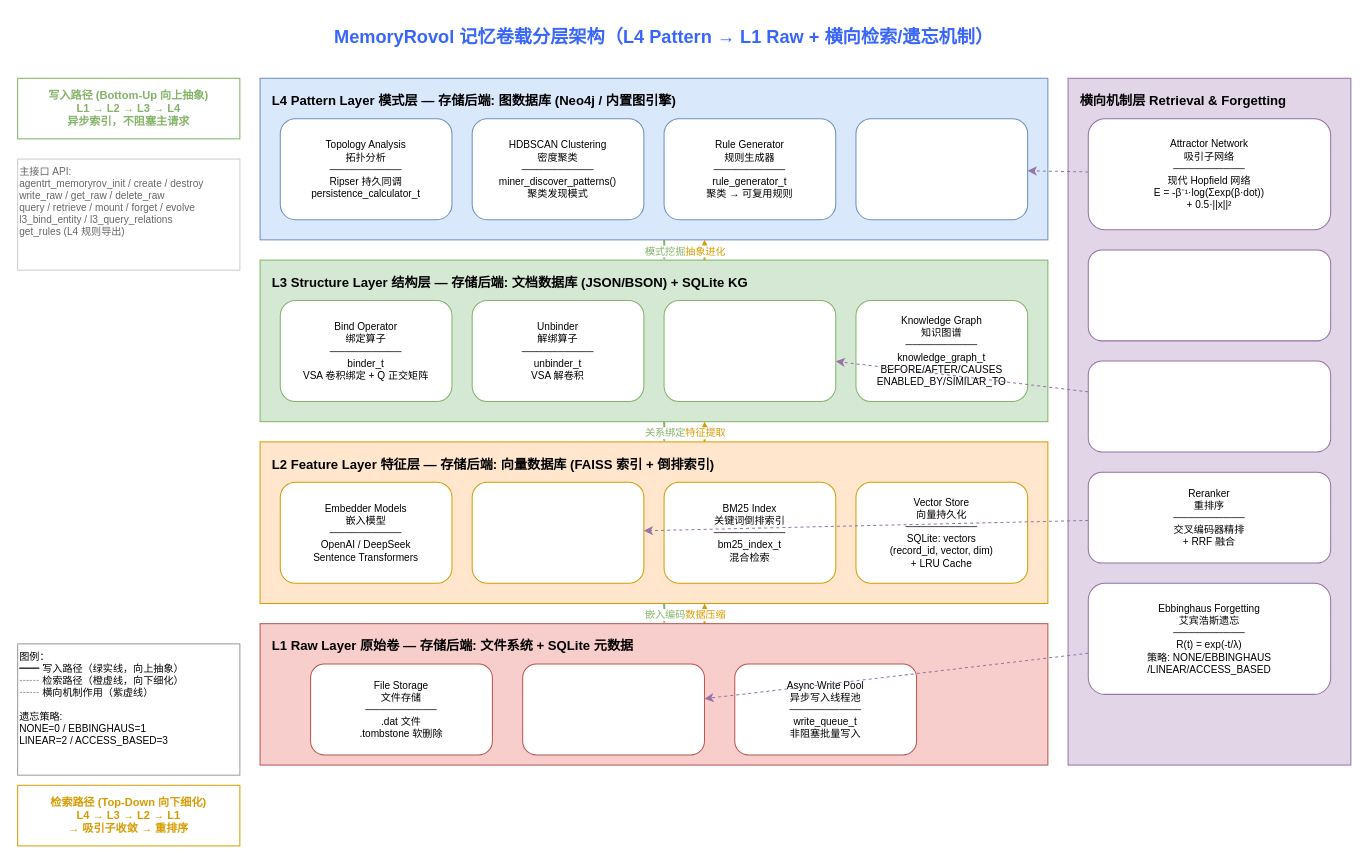
Some shapes in this 1369 by 864 pixel diagram are drawn without their labels. Here are the shapes that lost their labels. From the top down, the centre of each, then its label:
(941,169): Pattern Matcher 模式匹配器 ────────── pattern_matcher_t 模式匹配检索
(1209,295): Retrieval Cache 检索缓存 ────────── LRU 淘汰 热点检索结果缓存
(749,350): Relation Encoder 关系编码器 ────────── relation_encoder_t subj/pred/obj 角色
(1209,406): Mount Context 上下文挂载 ────────── memoryrov_mount() 检索结果挂载到认知层
(557,532): FAISS Index 向量索引 ────────── HNSW / IVF / FLAT feature_vector_t
(613,709): Metadata SQLite 元数据索引 ────────── raw_metadata_db_t (record_id, source, tags)
